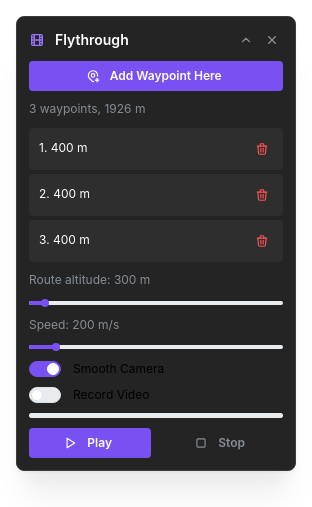
Test: FlythroughPanel route handoff › keeps the route out of the way once waypoints are edited by hand
Click the button named "Remove waypoint 2". click: [262, 195]
box: 251,184 -> 273,206
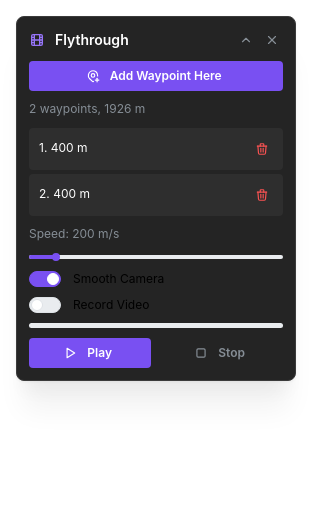
Expected: the number of elements with test id "flythrough-waypoint" is 2, 29,128 -> 283,170; 29,174 -> 283,216
Expected: the text "Route altitude" is gone
